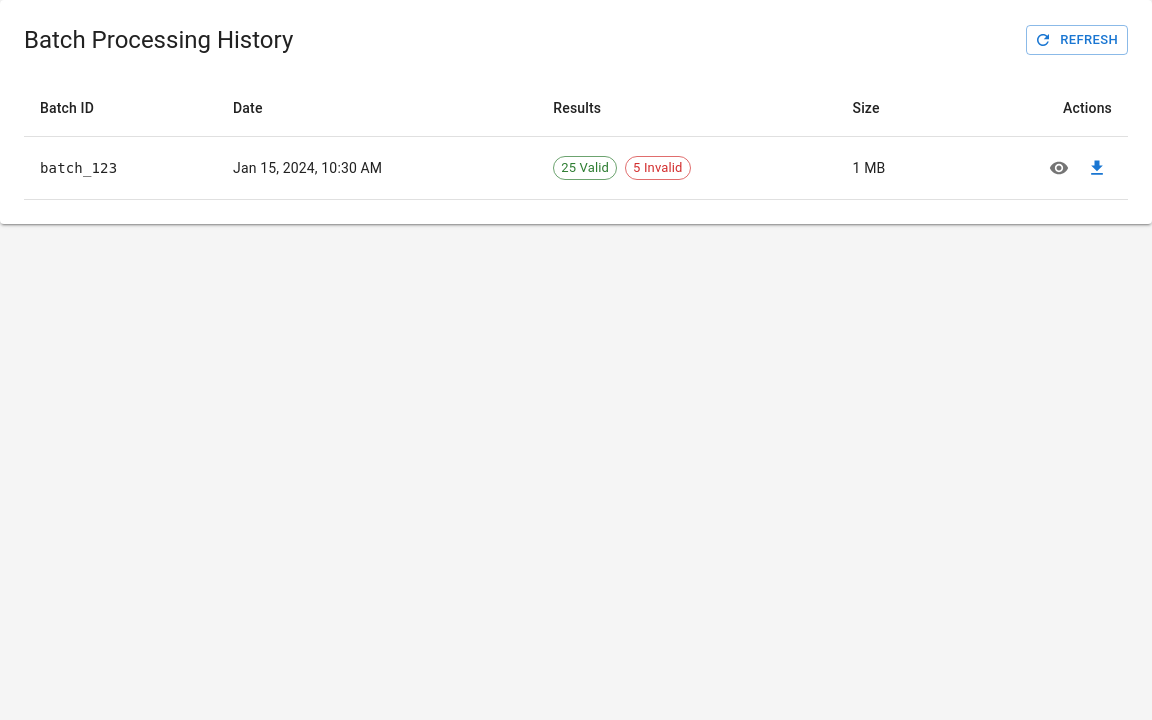
Test: BatchHistory Component › handles preview fetch error
Click the button named "Preview Results". click: click(1059, 168)
box: [1044,153,1074,183]
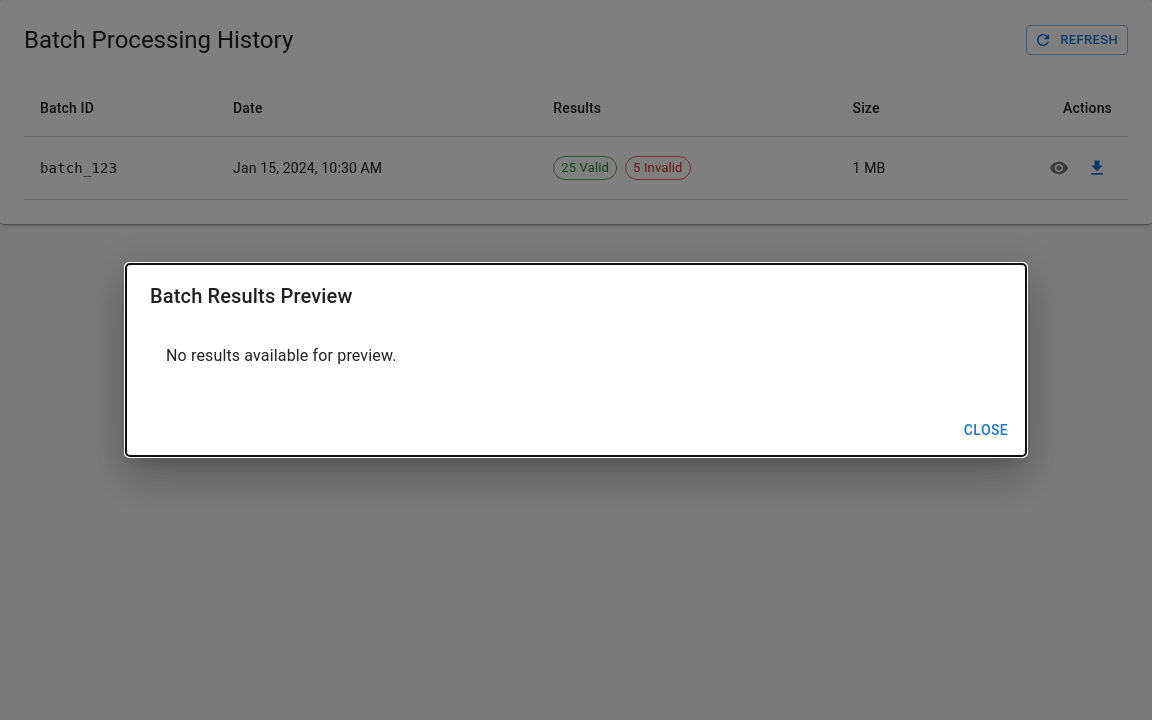
Result: the text "No results available for preview." is shown at [166,346,396,365]
